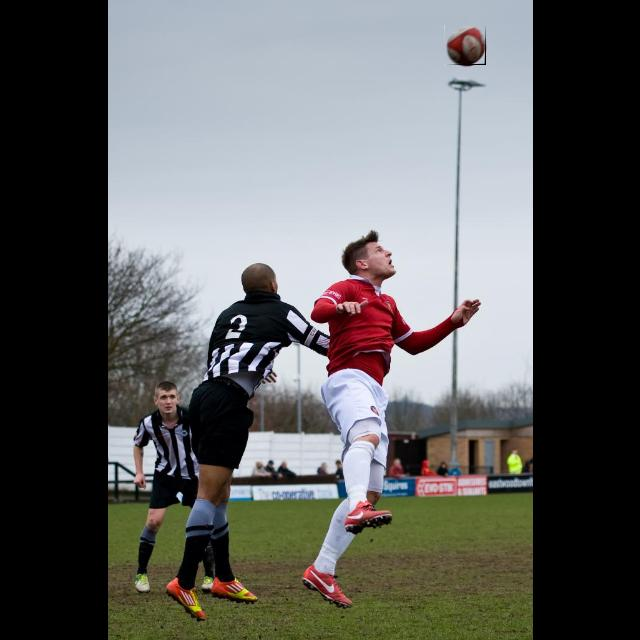Football: (444, 25, 486, 65)
